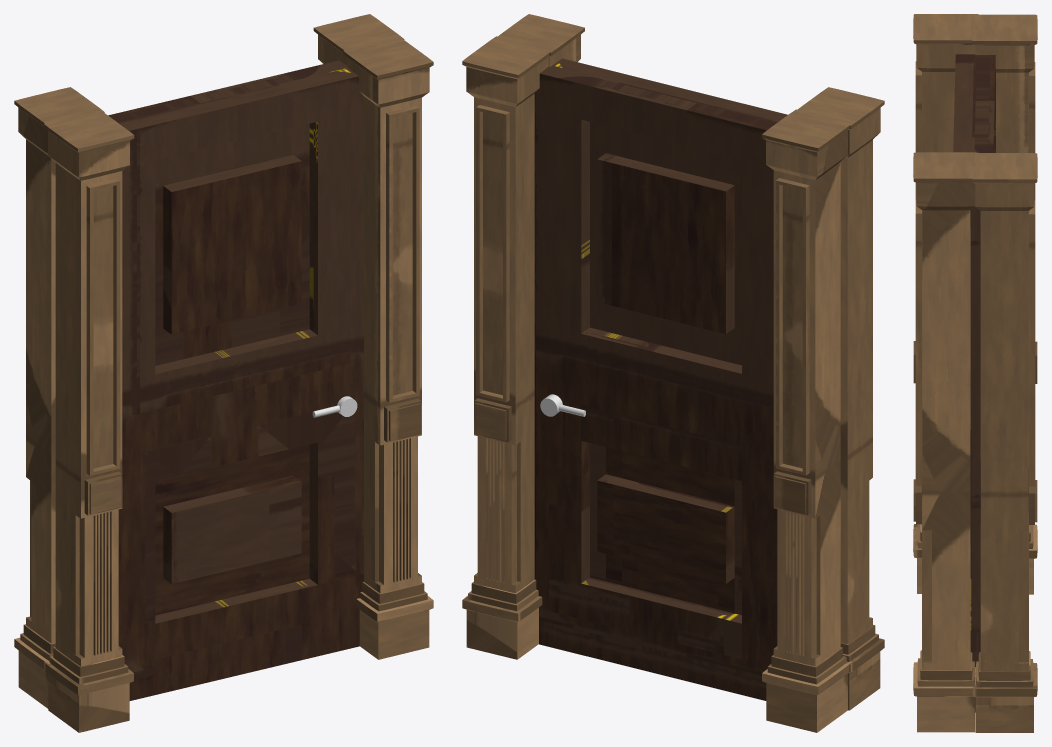
File: DrzwiV2.fbx
3 views of the same model, side by side, from view 1: azimuth 30°, elevation 25°; view 2: azimuth 150°, elevation 25°; view 3: azimuth 270°, elevation 25° (orthographic). The views are drawn at different scales.
Visible parts, largest first — view 1: Drzwi.001, Filary.001, Filary.002; view 2: Drzwi.001, Filary.002, Filary.001; view 3: Filary.002, Filary.001, Drzwi.001.
Part boxes in pixels (x1,y1,x2,y2): Drzwi.001: [108, 60, 363, 700]; Filary.001: [43, 39, 433, 732]; Filary.002: [14, 14, 404, 708]; Drzwi.001: [534, 58, 787, 700]; Filary.002: [462, 36, 851, 732]; Filary.001: [498, 14, 884, 710]; Filary.002: [972, 14, 1037, 732]; Filary.001: [913, 14, 978, 732]; Drzwi.001: [953, 54, 995, 712].
Bounding box in the file's own units: 0.5413 × 1.7 × 2.67.
Materials: 4 (3 with a texture image).
